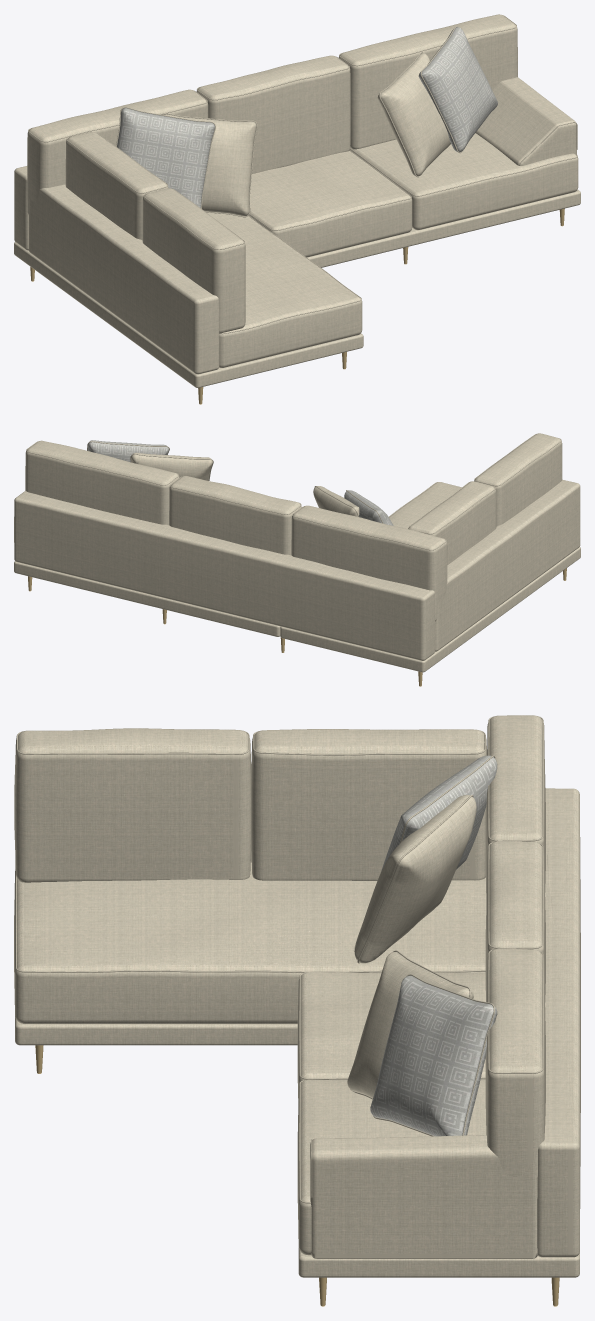
The model's file is corner.glb.
3 views of the same model, one above another, from view 1: azimuth 30°, elevation 25°; view 2: azimuth 150°, elevation 25°; view 3: azimuth 270°, elevation 25° (orthographic). The views are drawn at different scales.
Parts seen in each view (by area): view 1: fabric (×2), pillows (×3); view 2: fabric (×2), pillows (×3); view 3: fabric (×2), pillows (×3).
Part boxes in pixels (bbox=[...]): fabric (×2): bbox=[14, 14, 580, 387]; pillows (×3): bbox=[116, 26, 497, 217]; fabric (×2): bbox=[14, 433, 580, 672]; pillows (×3): bbox=[87, 440, 393, 525]; fabric (×2): bbox=[14, 715, 580, 1277]; pillows (×3): bbox=[347, 755, 497, 1136].
Size of the model in its own units: 3 by 1.02 by 2.
Materials: 4 (3 with a texture image).
